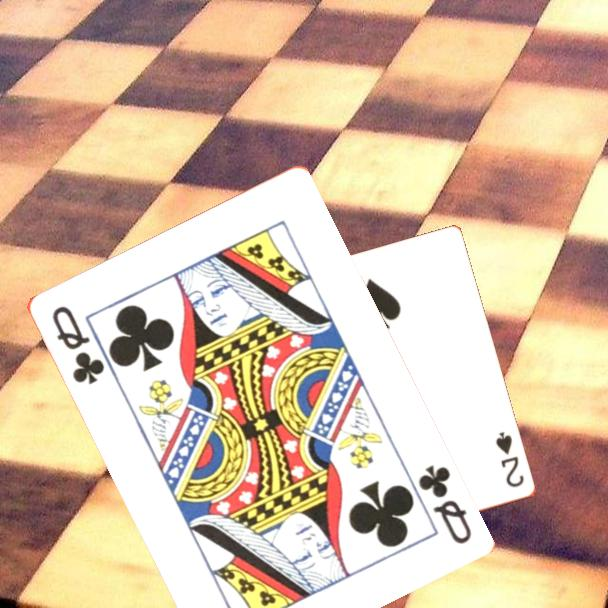c12: (413, 461, 474, 547), (47, 302, 107, 387)
s02: (492, 428, 527, 490)
